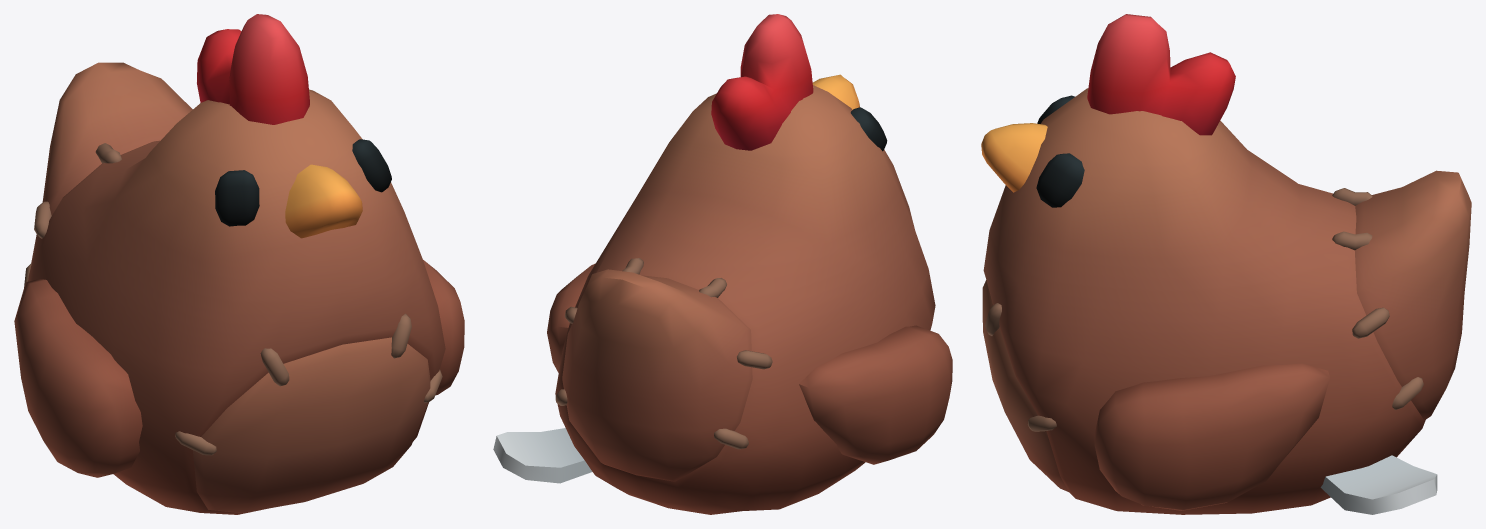
The model's file is chicken_plushie_B.glb.
3 renders of one model, left to right at view 1: azimuth 30°, elevation 25°; view 2: azimuth 150°, elevation 25°; view 3: azimuth 270°, elevation 25°, orthographic. The views are drawn at different scales.
Visible parts, largest first — view 1: chicken_plushie_B; view 2: chicken_plushie_B; view 3: chicken_plushie_B.
Part boxes in pixels (box(x1,y1,x2,y2)): chicken_plushie_B: box(14, 14, 464, 514); chicken_plushie_B: box(493, 14, 952, 514); chicken_plushie_B: box(981, 14, 1471, 514).
Size of the model in its own units: 0.8255 by 0.9123 by 0.8961.
Materials: 1 (1 with a texture image).
